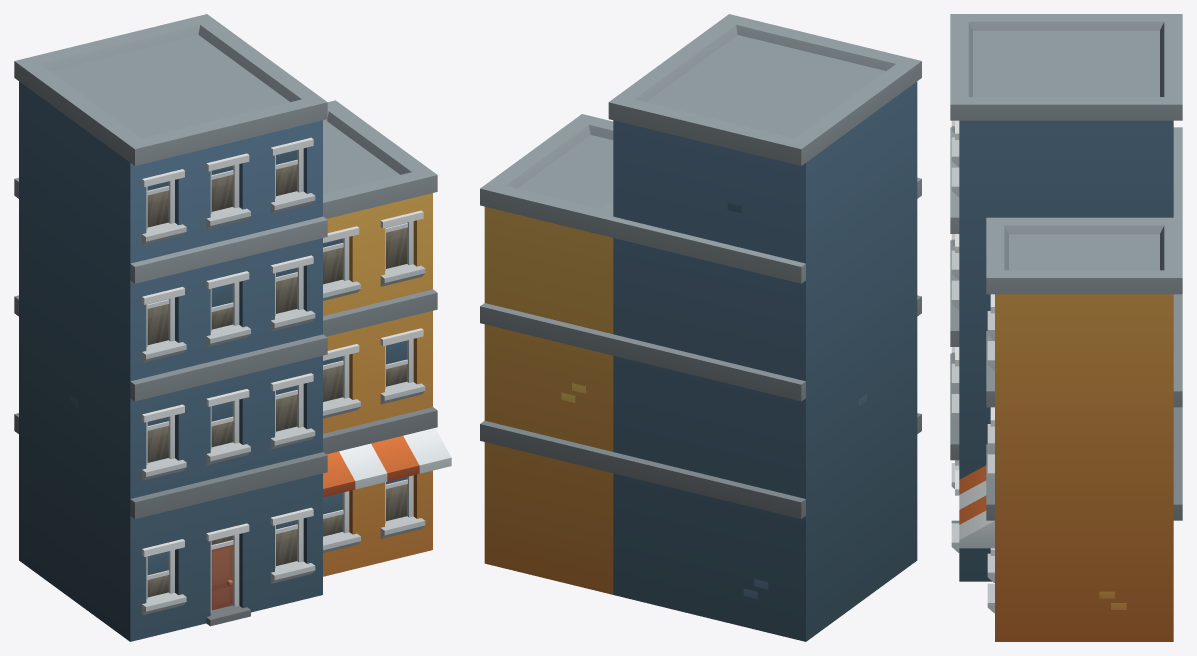
Rendered from building_H_withoutBase-processed.glb.
3 views of the same model, side by side, from view 1: azimuth 30°, elevation 25°; view 2: azimuth 150°, elevation 25°; view 3: azimuth 270°, elevation 25° (orthographic). The views are drawn at different scales.
Parts seen in each view (by area): view 1: building_H_withoutBase; view 2: building_H_withoutBase; view 3: building_H_withoutBase.
Boxes of the visible parts, x1,y1,x2,y2 form: building_H_withoutBase: [14, 14, 451, 641]; building_H_withoutBase: [480, 14, 921, 641]; building_H_withoutBase: [950, 14, 1182, 641].
Bounding box in the file's own units: 2.01 × 2.95 × 1.3.
Materials: 1 (1 with a texture image).
